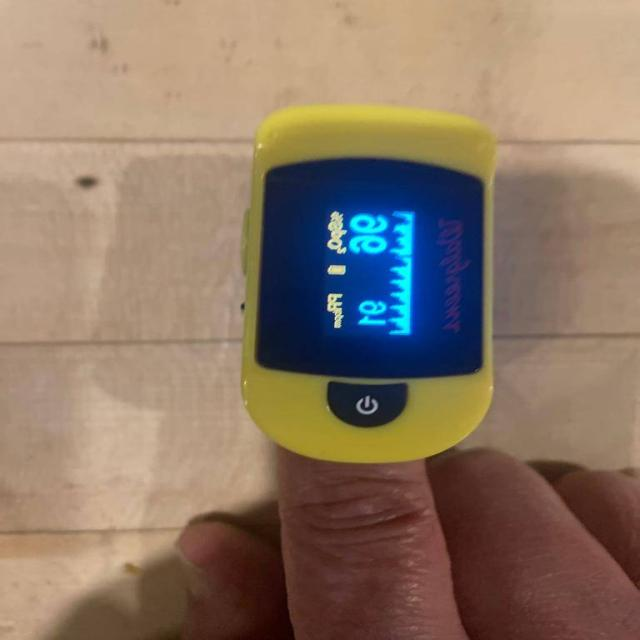spo2: (239, 105, 497, 466)
